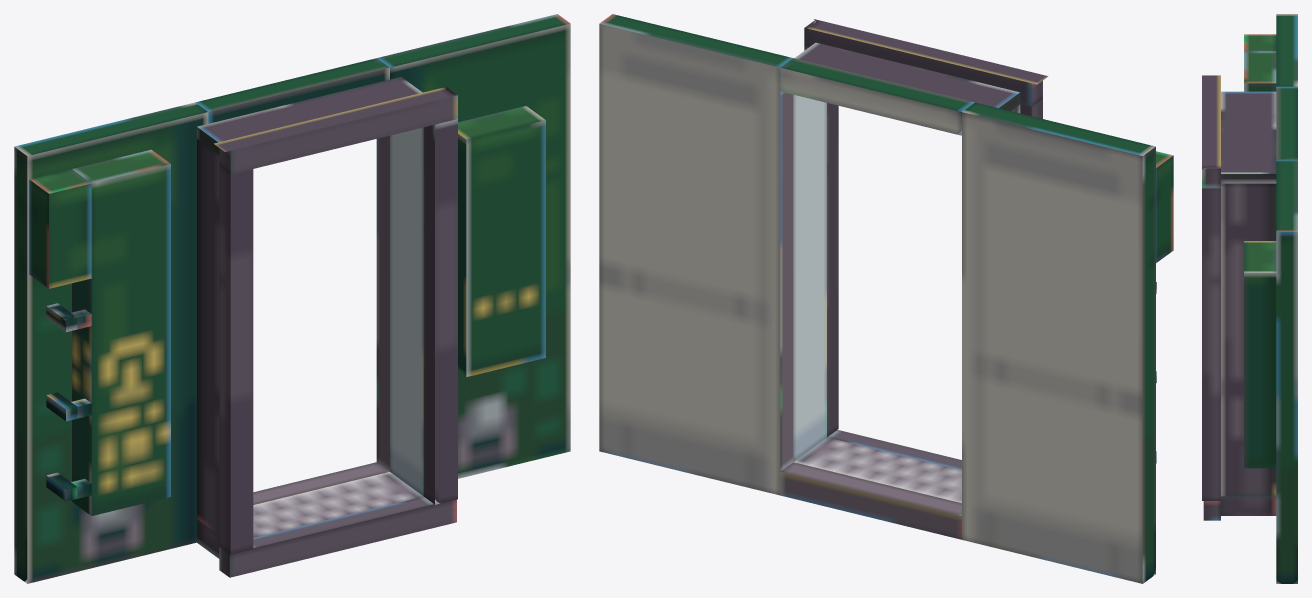
Rendered from end_face_original_25b_3.obj.
3 views of the same model, side by side, from view 1: azimuth 30°, elevation 25°; view 2: azimuth 150°, elevation 25°; view 3: azimuth 270°, elevation 25° (orthographic). The views are drawn at different scales.
Parts seen in each view (by area): view 1: cube; view 2: cube; view 3: cube.
Boxes of the visible parts, <box> form: cube: <box>14,14,570,583</box>; cube: <box>599,14,1173,583</box>; cube: <box>1202,14,1297,583</box>.
Size of the model in its own units: 2.99 by 2.25 by 0.5562.
